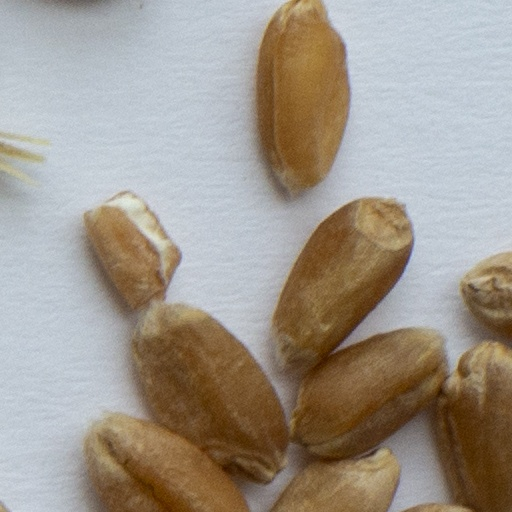Wheat-grain-damaged-poly: (77, 189, 181, 319)
